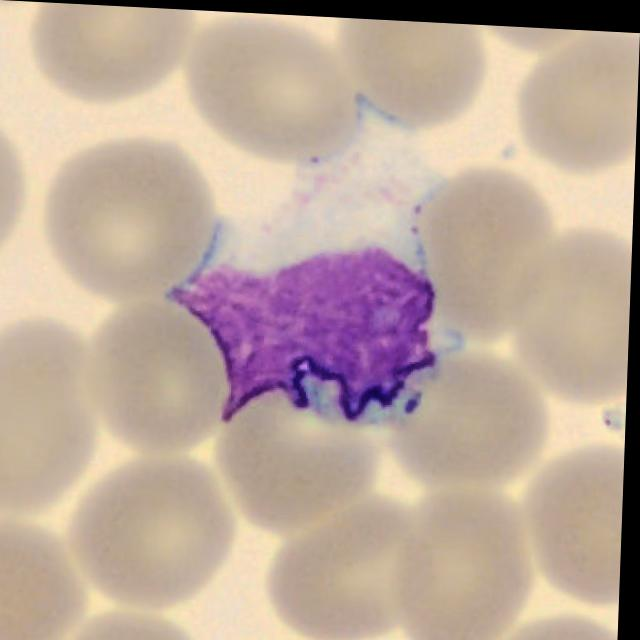Linfocito atipico: (169, 120, 447, 422)
